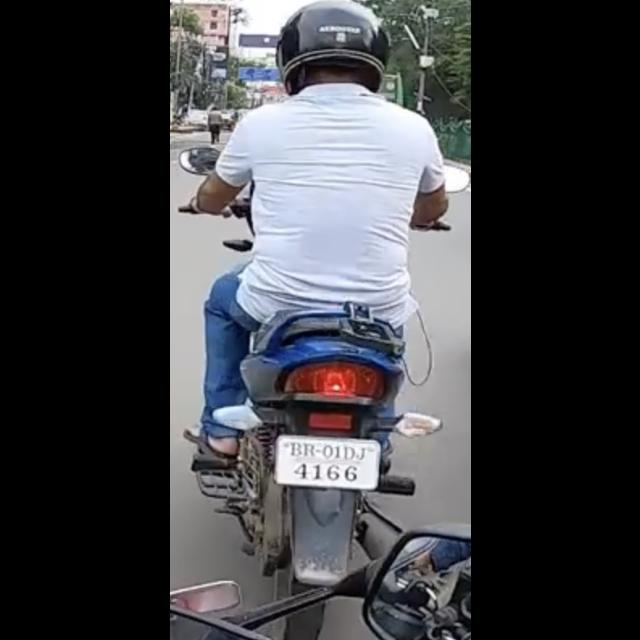with helmet: (274, 2, 386, 90)
